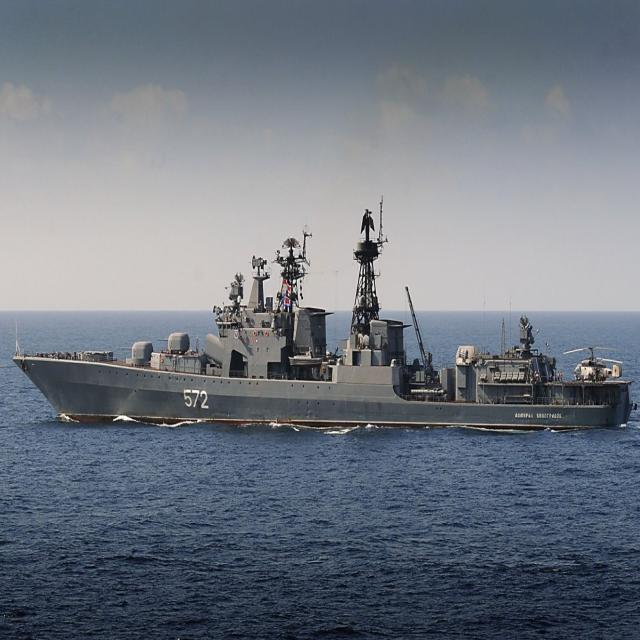navalvessels: (1, 213, 634, 441)
